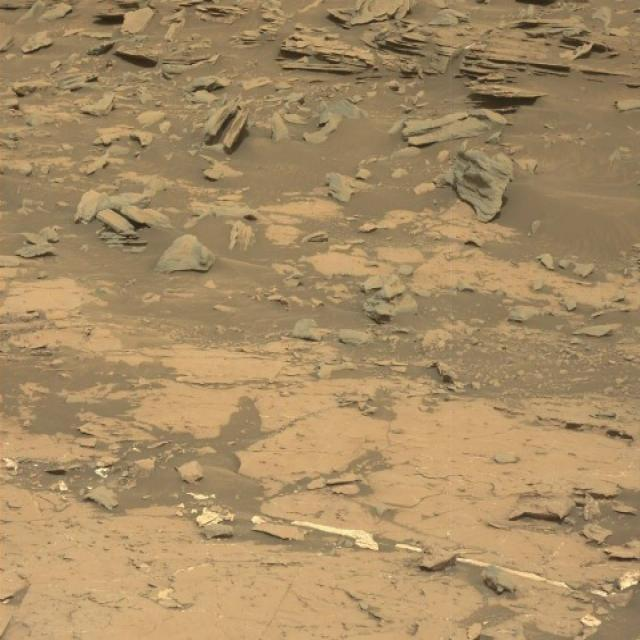rock: (445, 143, 516, 225), (280, 26, 372, 77), (468, 78, 546, 114), (156, 233, 222, 271)
